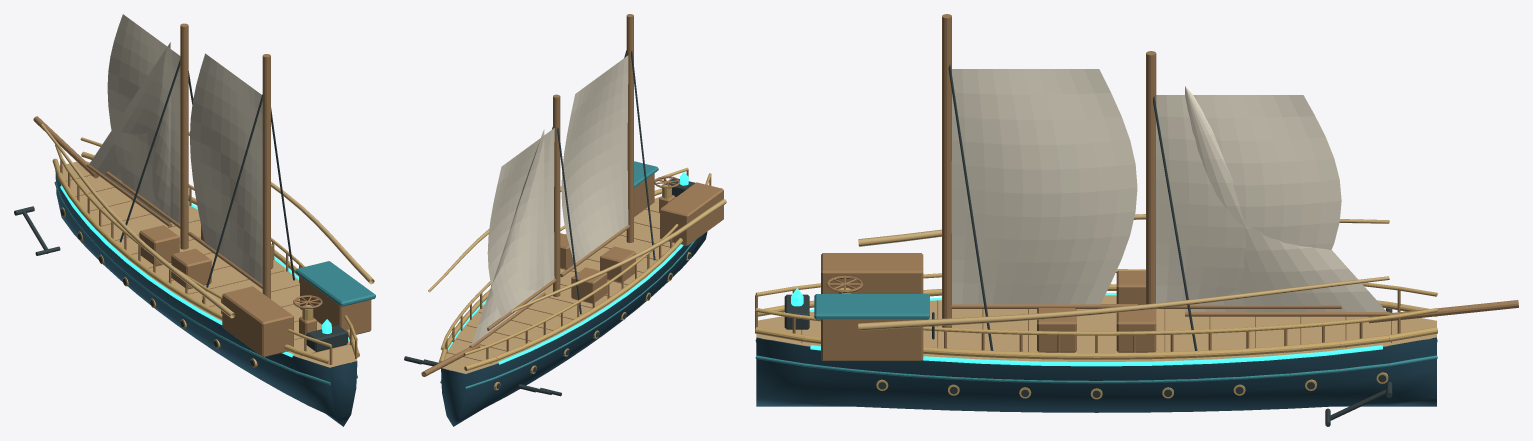
The model's file is ship_schooner.glb.
The picture shows the model from 3 angles, left to right: view 1: azimuth 30°, elevation 25°; view 2: azimuth 150°, elevation 25°; view 3: azimuth 270°, elevation 25°; orthographic projection. The views are drawn at different scales.
Visible parts, largest first — view 1: ship_schooner; view 2: ship_schooner; view 3: ship_schooner.
Boxes of the visible parts, x1,y1,x2,y2 form: ship_schooner: (14, 14, 375, 426); ship_schooner: (404, 14, 726, 426); ship_schooner: (755, 14, 1518, 426).
Size of the model in its own units: 4.05 by 7.6 by 13.47.
